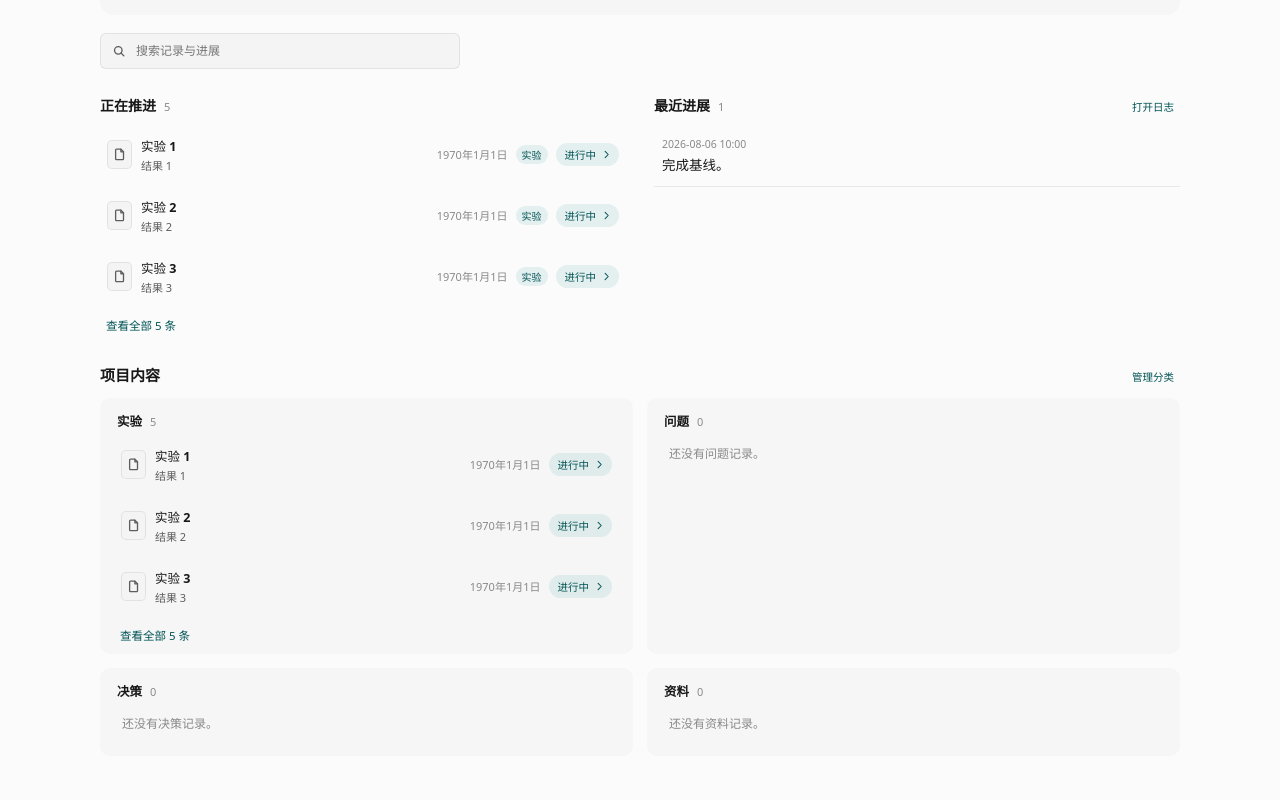
Test: 单项目总览 › 置顶把一条钉在最前面，但不撑破三条的上限
Click the button "查看全部 5 条" below "项目内容" at {"x": 155, "y": 635}, box [114,626,196,644]
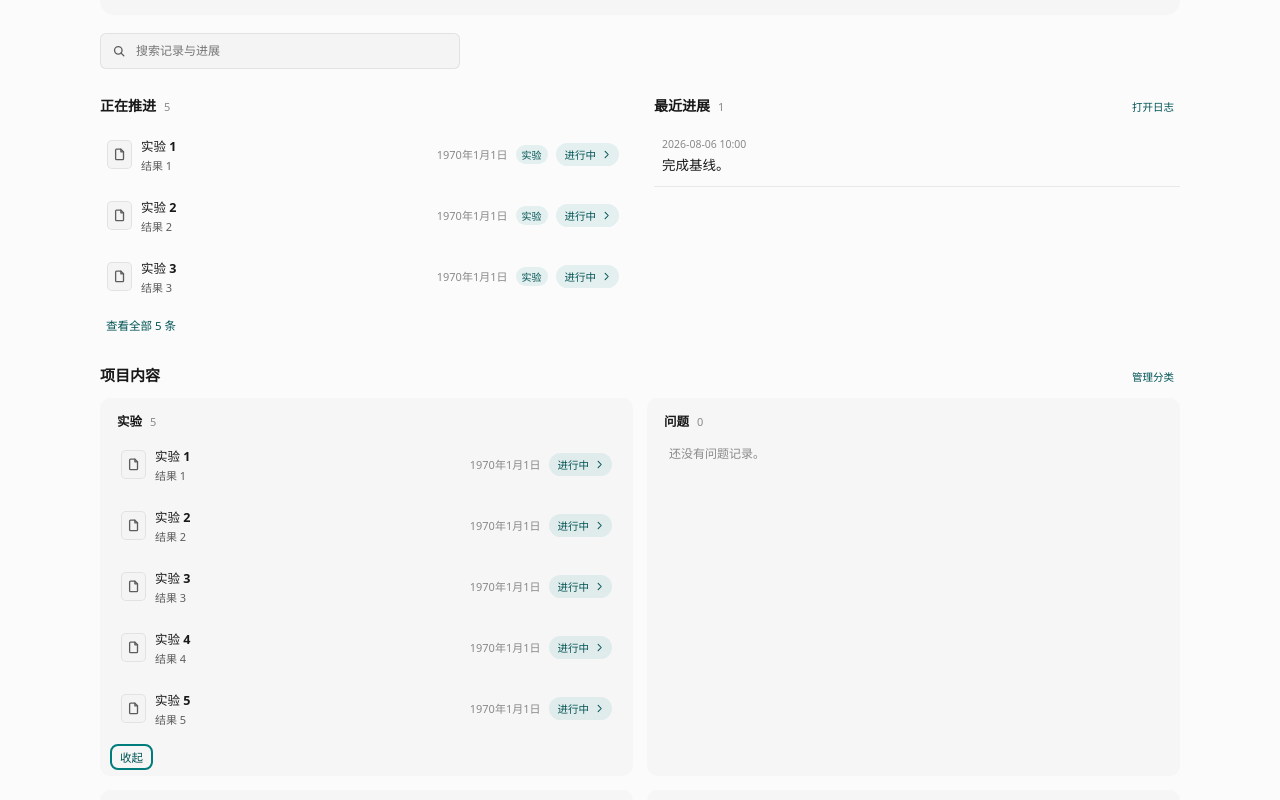
Right-click the element showing "实验 5 结果 5 进行中" at {"x": 366, "y": 708}, box [114,679,619,738]
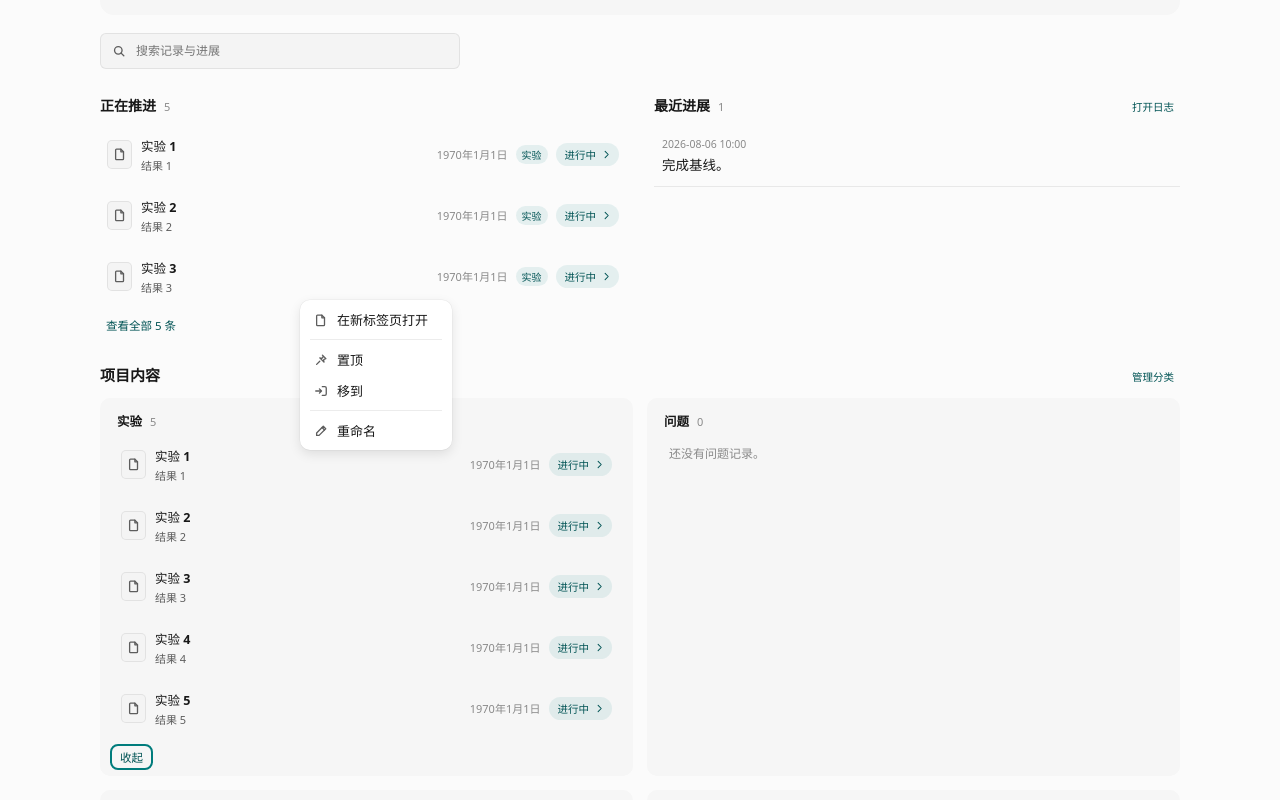
Click the button "置顶" at {"x": 376, "y": 360}, box [304,344,448,375]
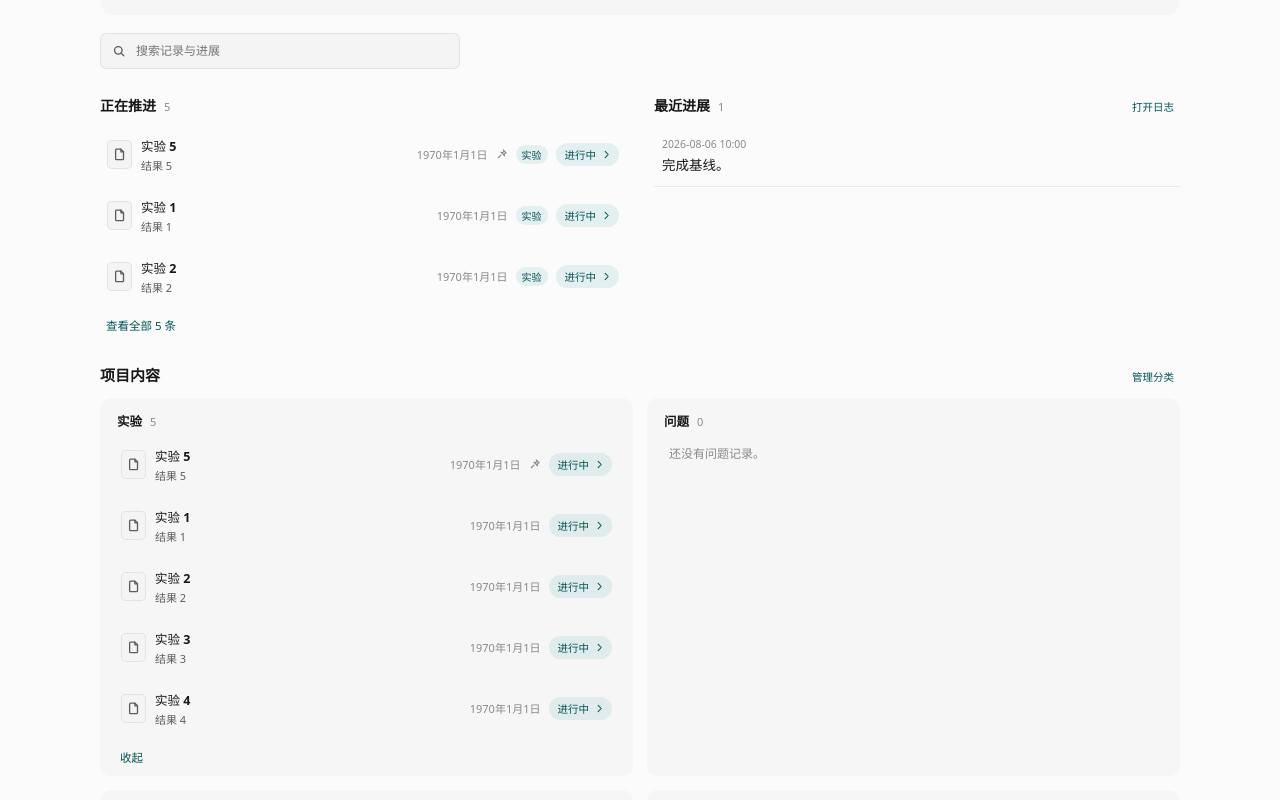
Expected: the element named "已置顶" in the row of "2026-08-06 10:00" is shown, [496,148,508,160]
